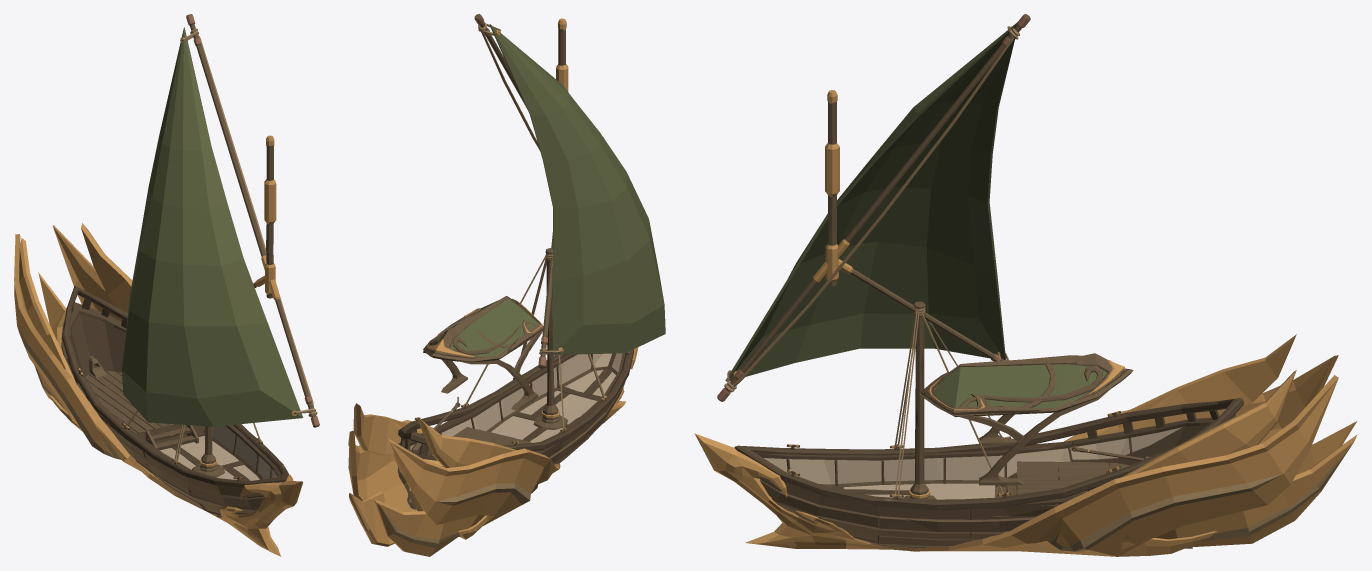
File: el_boat.gltf
3 renders of one model, left to right at view 1: azimuth 30°, elevation 25°; view 2: azimuth 150°, elevation 25°; view 3: azimuth 270°, elevation 25°, orthographic. The views are drawn at different scales.
Parts seen in each view (by area): view 1: el_boat; view 2: el_boat; view 3: el_boat.
Boxes of the visible parts, bbox=[...] form: el_boat: bbox=[14, 14, 319, 556]; el_boat: bbox=[348, 14, 665, 556]; el_boat: bbox=[694, 14, 1357, 556].
Size of the model in its own units: 6.37 by 18.69 by 20.42.
1 material, 1 textured.
